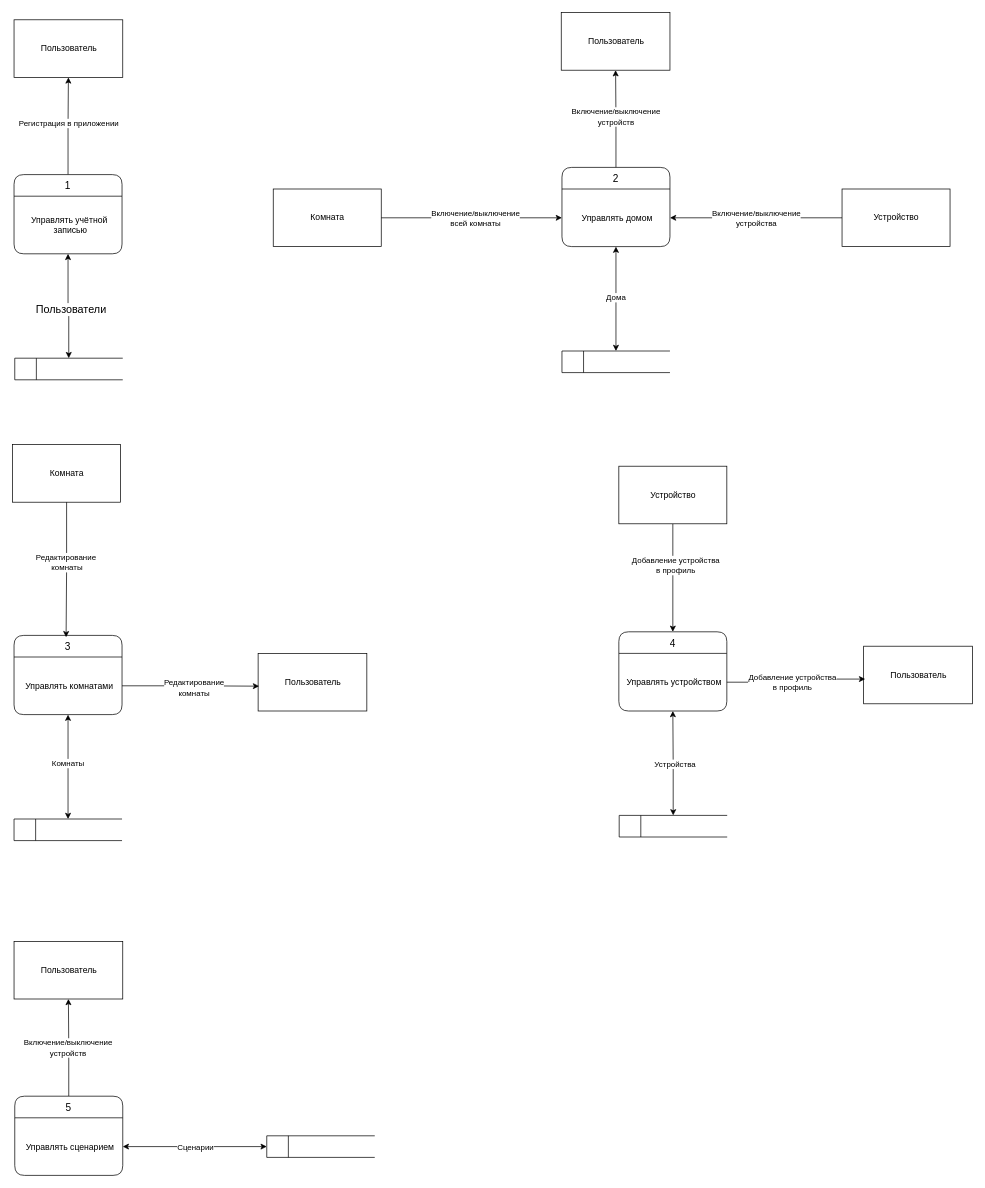
Some shapes in this 985 by 1188 pixel diagram are drawn without their labels. Each missing label, with the centre of its shape:
"D1 Пользователи" goes at [68,368].
"D2 Дома" goes at [615,361].
"D3 Комнаты" goes at [67,829].
"D4 Устройства" goes at [672,826].
"D5 Сценарии" goes at [320,1146].
